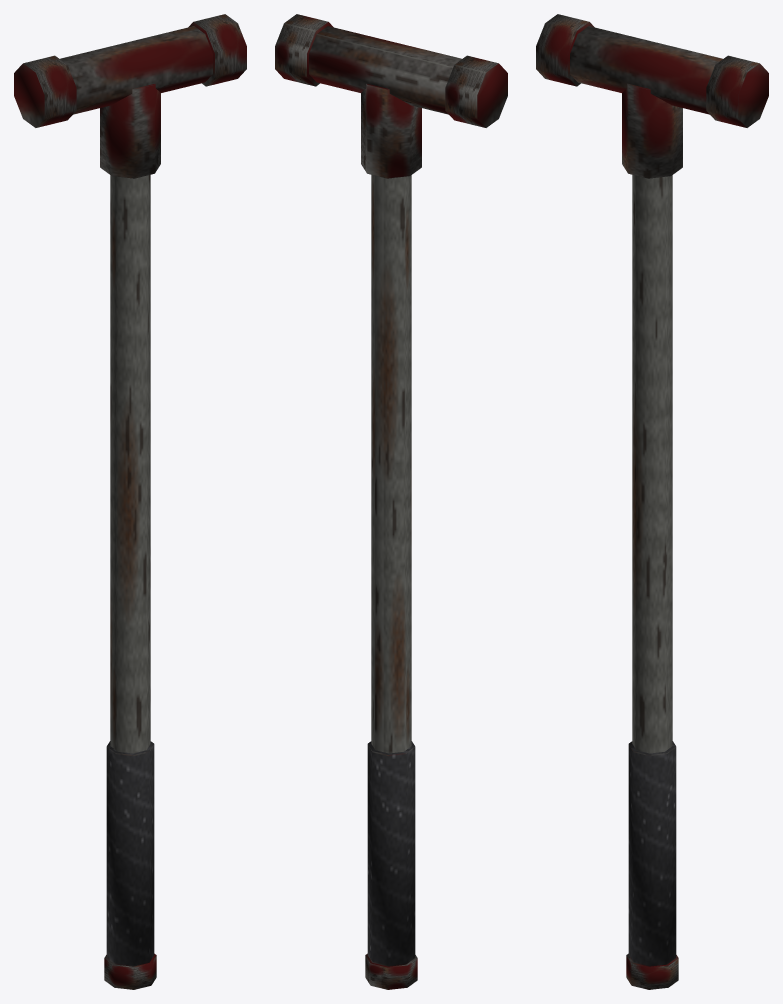
The model's file is Pipe.fbx.
The picture shows the model from 3 angles, left to right: view 1: azimuth 30°, elevation 25°; view 2: azimuth 150°, elevation 25°; view 3: azimuth 330°, elevation 25°; orthographic projection.
Visible parts, largest first — view 1: Pipe; view 2: Pipe; view 3: Pipe.
Boxes of the visible parts, x1=… form: Pipe: x1=14, y1=14, x2=246, y2=989; Pipe: x1=275, y1=14, x2=507, y2=989; Pipe: x1=536, y1=14, x2=768, y2=989.
Size of the model in its own units: 0.19 by 0.8399 by 0.0499.
Materials: 1 (1 with a texture image).
